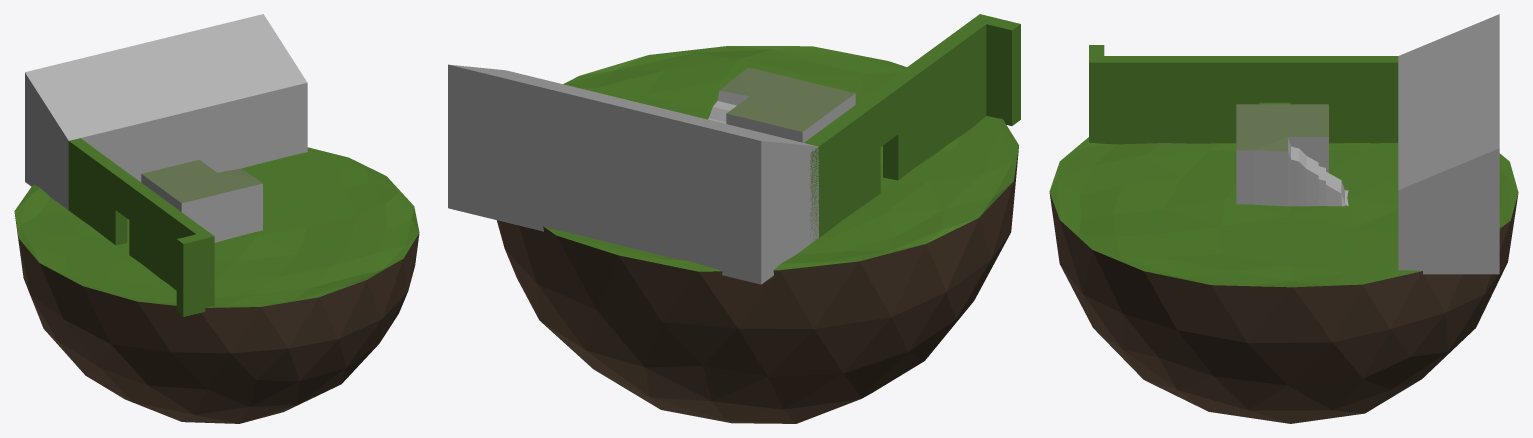
Rendered from Level1FCollider.fbx.
3 views of the same model, side by side, from view 1: azimuth 30°, elevation 25°; view 2: azimuth 150°, elevation 25°; view 3: azimuth 270°, elevation 25° (orthographic). The views are drawn at different scales.
Parts seen in each view (by area): view 1: Collider_Future; view 2: Collider_Future; view 3: Collider_Future.
Part boxes in pixels (x1,y1,x2,y2): Collider_Future: [14, 14, 419, 423]; Collider_Future: [448, 14, 1020, 423]; Collider_Future: [1049, 14, 1518, 423].
Size of the model in its own units: 29.9 by 23.75 by 30.32.
